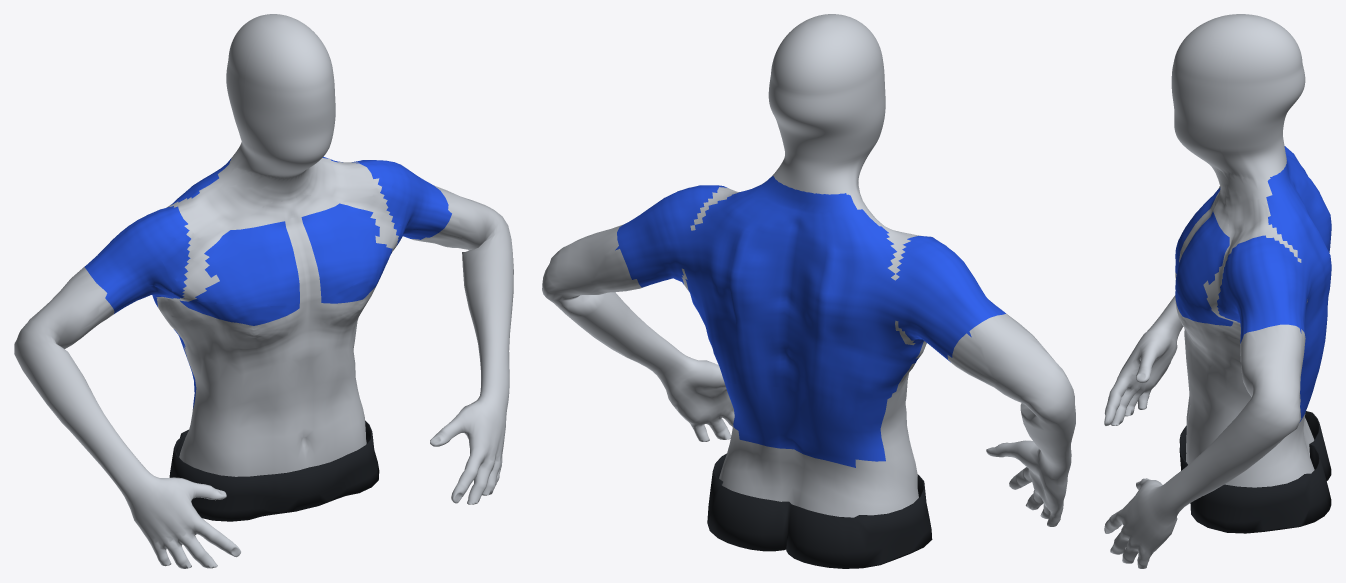
The model's file is workout-upper.glb.
3 views of the same model, side by side, from view 1: azimuth 30°, elevation 25°; view 2: azimuth 150°, elevation 25°; view 3: azimuth 270°, elevation 25° (orthographic). The views are drawn at different scales.
Parts seen in each view (by area): view 1: SM_Athlete_Body; view 2: SM_Athlete_Body; view 3: SM_Athlete_Body.
Part boxes in pixels (<box>): SM_Athlete_Body: <box>14,14,513,568</box>; SM_Athlete_Body: <box>542,14,1075,568</box>; SM_Athlete_Body: <box>1104,14,1331,568</box>.
Size of the model in its own units: 2 by 1.83 by 0.8057.
